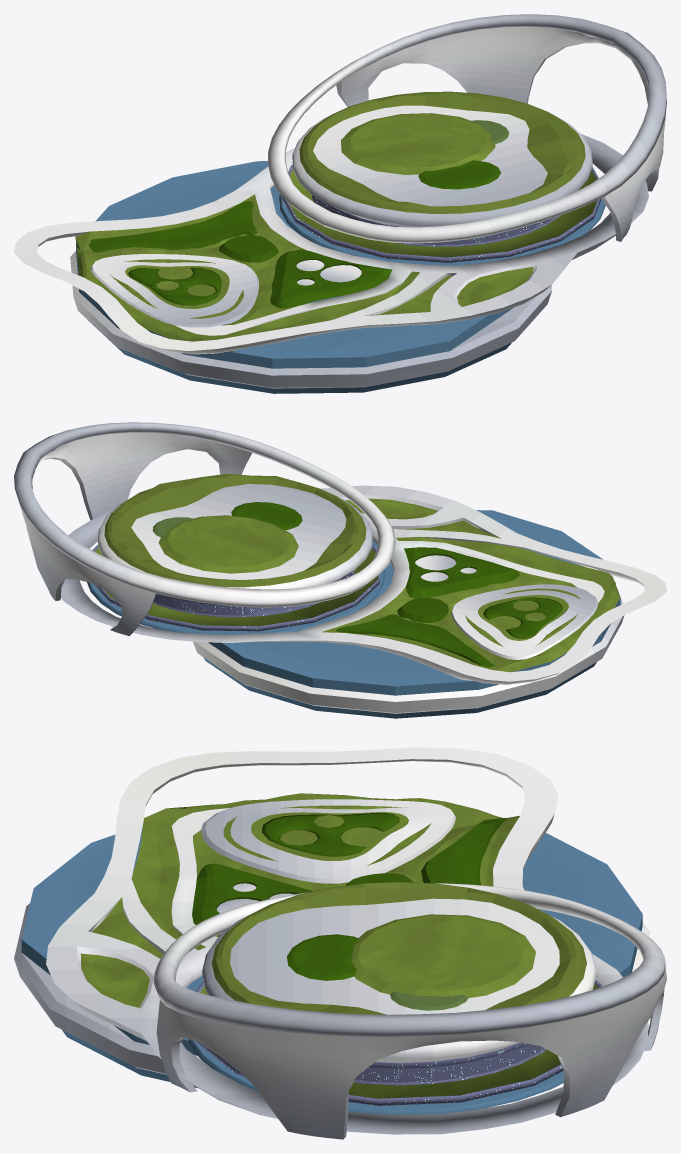
The model's file is Island_PublishHub_new.glb.
The picture shows the model from 3 angles, top to bottom: view 1: azimuth 30°, elevation 25°; view 2: azimuth 150°, elevation 25°; view 3: azimuth 270°, elevation 25°; orthographic projection. The views are drawn at different scales.
Visible parts, largest first — view 1: Island_01, Sphere.023, Grass_01, Torus, Sphere.012, Torus.001, Grass_02, Sphere.030, Circle.003, Sphere.010, Sphere.011, Sphere.028 (+2 smaller); view 2: Island_01, Sphere.023, Grass_01, Torus, Torus.001, Sphere.012, Grass_02, Circle.003, Sphere.030, Sphere.010, Sphere.011, Sphere.028 (+2 smaller); view 3: Sphere.023, Torus.001, Grass_01, Sphere.012, Island_01, Torus, Sphere.030, Circle.003, Grass_02, Sphere.010, Sphere.028, Sphere.011 (+3 smaller).
Part boxes in pixels (left/top/right/bottom): Island_01: left=70, top=161, right=552, bottom=393; Sphere.023: left=14, top=134, right=648, bottom=354; Grass_01: left=75, top=91, right=585, bottom=352; Torus: left=268, top=14, right=666, bottom=243; Sphere.012: left=292, top=105, right=592, bottom=246; Torus.001: left=336, top=27, right=665, bottom=241; Grass_02: left=88, top=201, right=391, bottom=308; Sphere.030: left=90, top=254, right=258, bottom=327; Circle.003: left=341, top=113, right=495, bottom=174; Sphere.010: left=280, top=165, right=601, bottom=262; Sphere.011: left=279, top=194, right=605, bottom=265; Sphere.028: left=128, top=267, right=221, bottom=305; Island_01: left=193, top=510, right=624, bottom=718; Sphere.023: left=61, top=485, right=666, bottom=684; Grass_01: left=104, top=473, right=620, bottom=672; Torus: left=14, top=422, right=395, bottom=607; Torus.001: left=21, top=432, right=252, bottom=635; Sphere.012: left=97, top=484, right=372, bottom=617; Grass_02: left=336, top=547, right=519, bottom=667; Circle.003: left=158, top=515, right=298, bottom=573; Sphere.030: left=451, top=584, right=598, bottom=659; Sphere.010: left=92, top=545, right=380, bottom=631; Sphere.011: left=87, top=570, right=384, bottom=634; Sphere.028: left=483, top=597, right=562, bottom=638; Sphere.023: left=46, top=747, right=648, bottom=1134; Torus.001: left=156, top=967, right=666, bottom=1139; Grass_01: left=80, top=793, right=586, bottom=1014; Sphere.012: left=202, top=898, right=596, bottom=1085; Island_01: left=14, top=825, right=650, bottom=1088; Torus: left=153, top=883, right=665, bottom=1036; Sphere.030: left=201, top=799, right=455, bottom=883; Circle.003: left=351, top=914, right=535, bottom=998; Grass_02: left=192, top=818, right=505, bottom=936; Sphere.010: left=196, top=980, right=602, bottom=1105; Sphere.028: left=262, top=813, right=399, bottom=856; Sphere.011: left=188, top=1039, right=563, bottom=1114.
Size of the model in its own units: 95.18 by 31.1 by 67.93.
7 materials, 5 textured.
